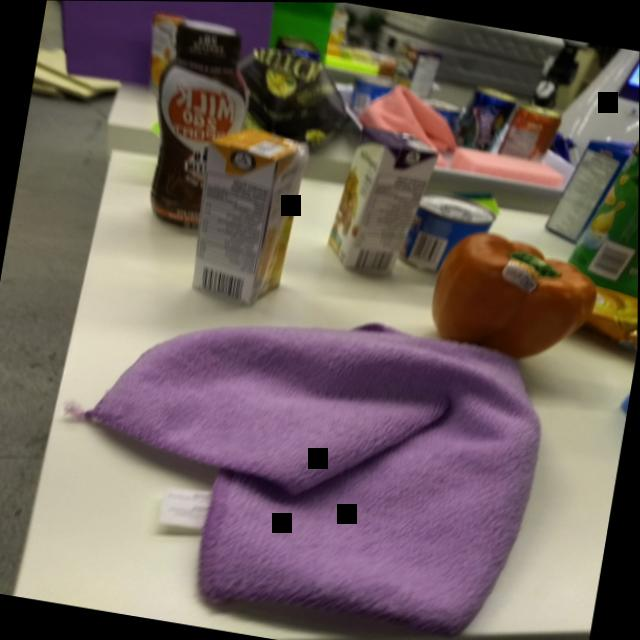cereal: (543, 129, 634, 254)
chocolate_drink: (141, 14, 257, 239)
cloth_opl: (29, 271, 553, 640)
coke: (497, 98, 567, 169)
grape_juice: (318, 121, 439, 289)
orange_juice: (185, 117, 315, 313)
paprika: (422, 224, 605, 368)
pringles: (577, 46, 640, 301)
sausages: (399, 191, 495, 277)
sprite: (449, 81, 520, 158)
